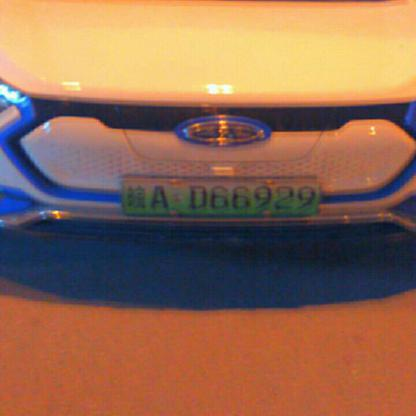lp: (124, 180, 320, 213)
